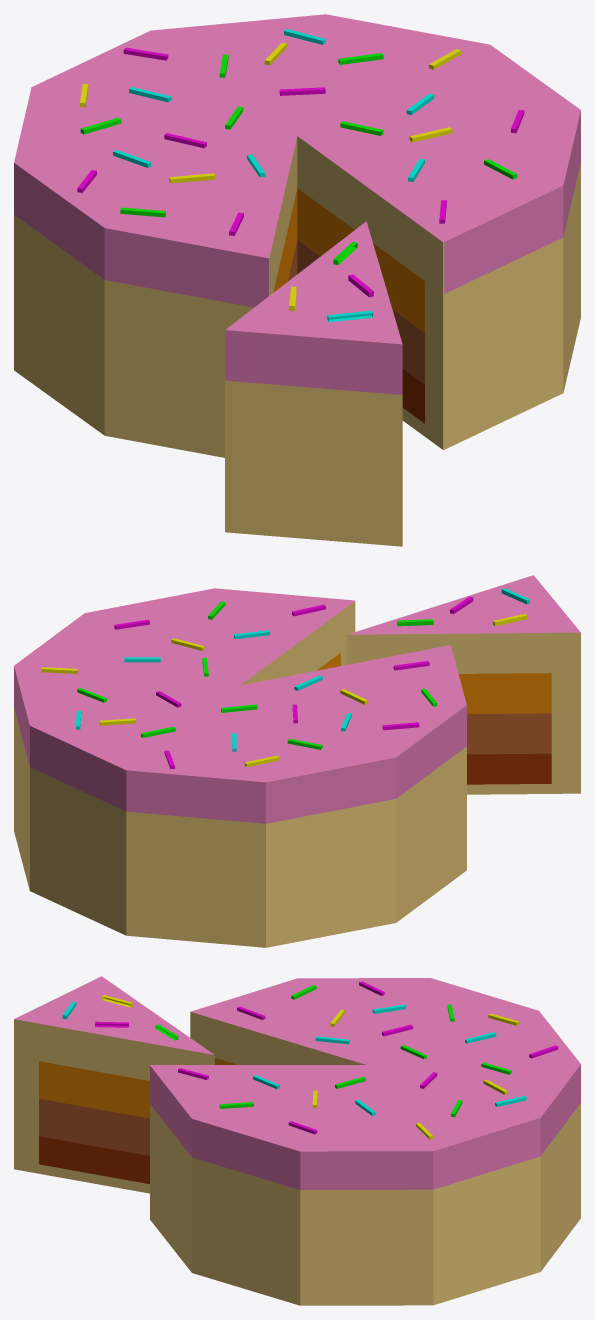
Rendered from Pastel.fbx.
3 renders of one model, top to bottom at view 1: azimuth 30°, elevation 25°; view 2: azimuth 150°, elevation 25°; view 3: azimuth 270°, elevation 25°, orthographic. The views are drawn at different scales.
Visible parts, largest first — view 1: Cylinder; view 2: Cylinder; view 3: Cylinder.
Part boxes in pixels (x1,y1,x2,y2): Cylinder: [14, 14, 580, 546]; Cylinder: [14, 575, 580, 947]; Cylinder: [14, 976, 580, 1305].
Size of the model in its own units: 195 by 80.49 by 263.
